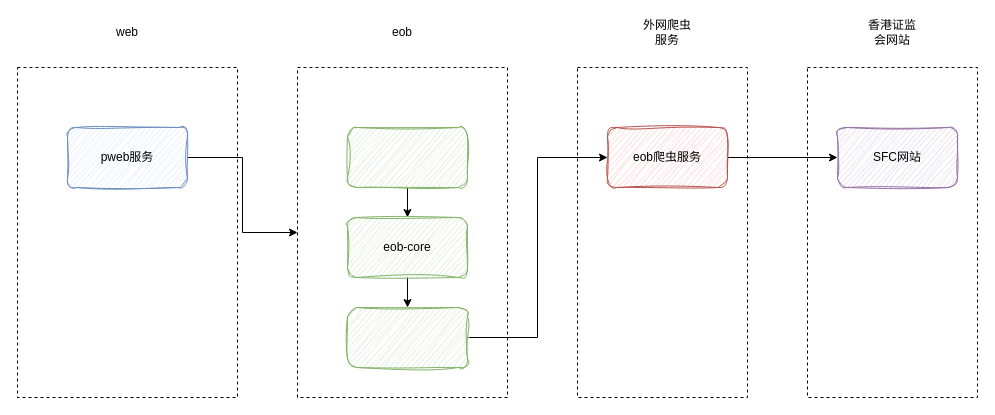
The diagram is 995 pixels wide and 415 high, and some of its shapes have lost their labels. Each missing label, with the box of its shape:
eob-appcif: (346, 126, 468, 188)
eob-daq: (346, 306, 468, 368)
